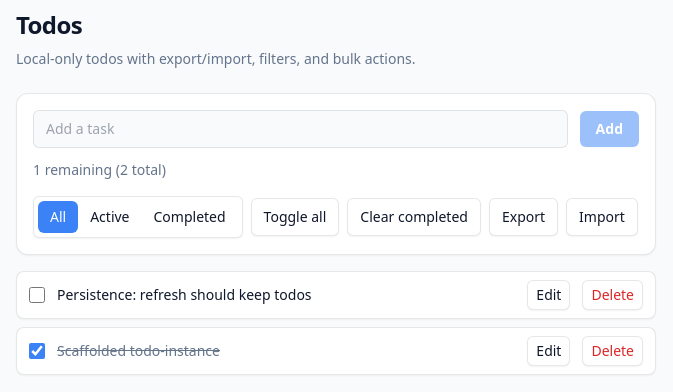
filters (All/Active/Completed) change visible items deterministically
expect the number of list items is 2: met, box [16,271,656,319]; [16,327,656,375]
What coordinates should you click on to do the following:
click the button "Active"
I would click on:
 (110, 217)
Its box is [78,201,142,233].
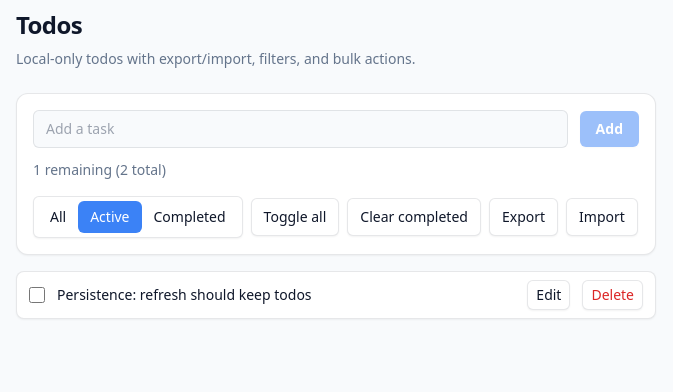
expect the text "Persistence: refresh should keep todos" is shown: met, box [57,285,312,305]
expect the number of list items is 1: met, box [16,271,656,319]
What coordinates should you click on to do the following:
click the button "Completed"
I would click on:
 (190, 217)
Its box is [142,201,238,233].
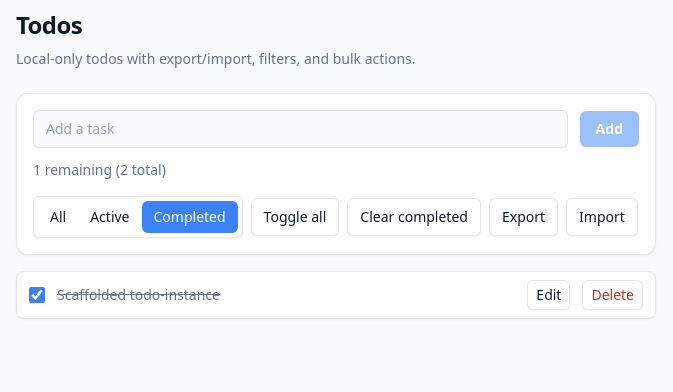
expect the number of list items is 1: met, box [16,271,656,319]
expect the text "Scaffolded todo-instance" is shown: met, box [57,285,220,305]
What coordinates should you click on to do the following:
click the button "All"
I would click on:
 (58, 217)
Its box is [38,201,78,233].
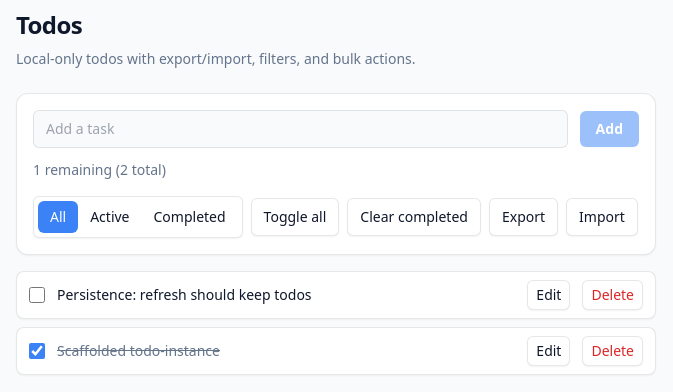
expect the number of list items is 2: met, box [16,271,656,319]; [16,327,656,375]
